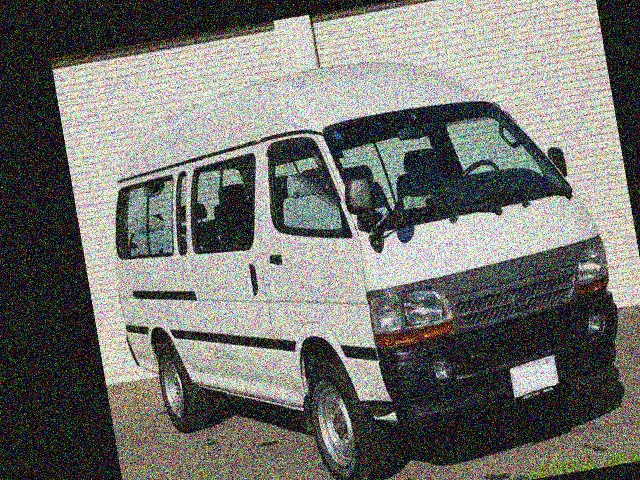van: (82, 21, 631, 480)
